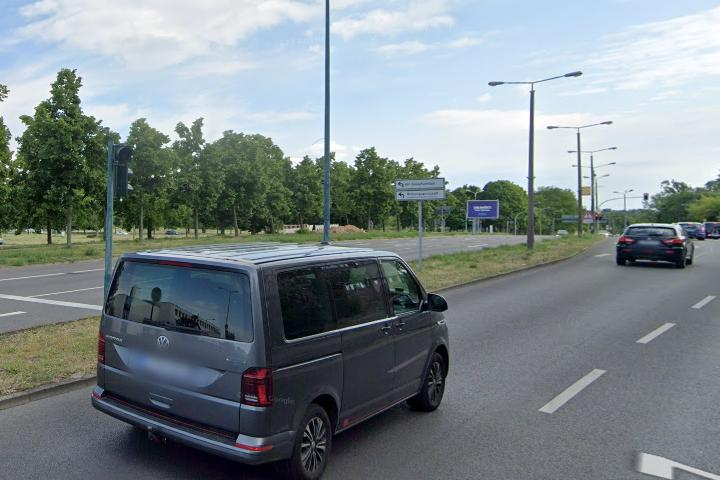vehicle: (89, 241, 457, 480), (614, 221, 696, 270)
